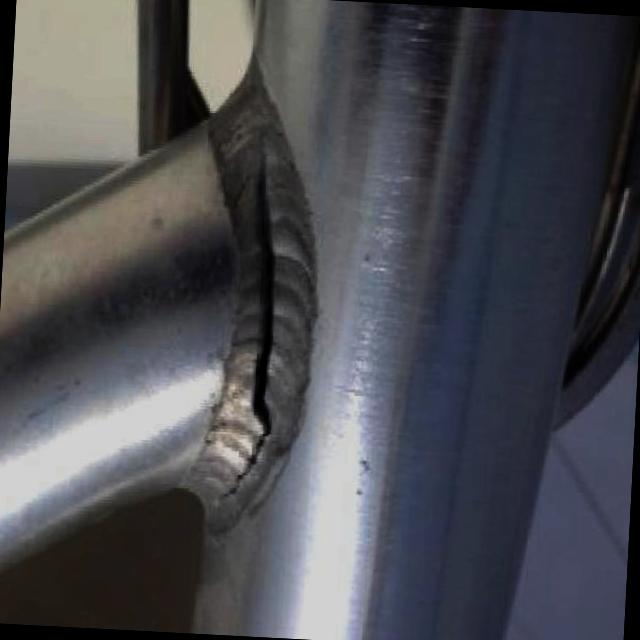crack: (248, 157, 284, 420), (230, 419, 268, 498)
